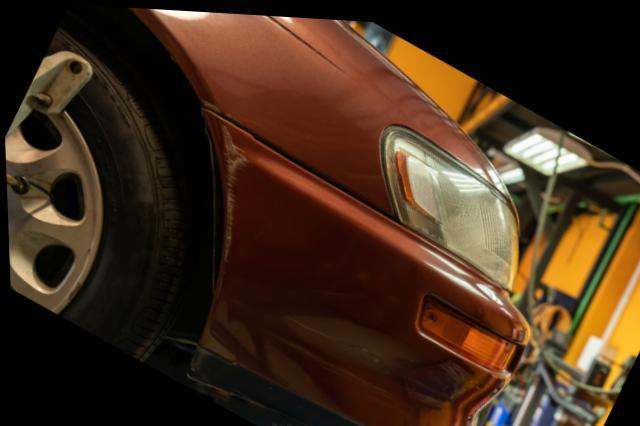scratch: (220, 125, 247, 265)
